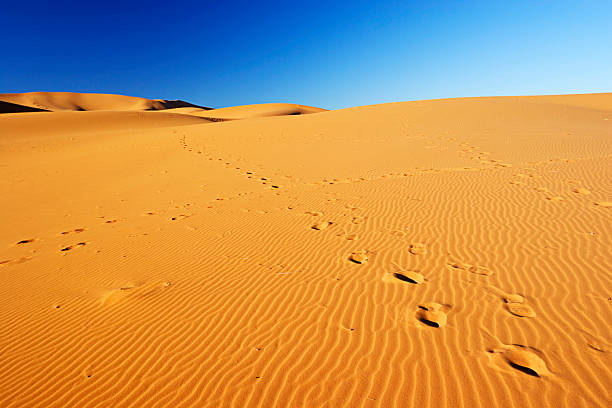human_foot_print: (197, 150, 282, 189), (488, 344, 550, 376), (100, 281, 170, 304), (490, 286, 535, 317), (416, 302, 451, 327), (382, 264, 424, 283), (579, 329, 611, 352), (504, 294, 535, 317), (100, 285, 133, 305), (447, 261, 492, 275), (383, 271, 424, 283), (535, 187, 563, 201), (0, 256, 32, 265), (60, 242, 88, 252), (349, 250, 368, 263), (514, 172, 540, 180), (501, 293, 524, 302), (409, 242, 426, 254), (311, 221, 332, 229), (337, 232, 358, 240), (60, 228, 85, 234), (491, 160, 512, 167), (573, 187, 590, 195), (170, 214, 190, 220), (16, 238, 35, 244), (390, 230, 406, 237), (344, 204, 361, 210), (594, 201, 611, 207), (351, 216, 364, 223), (304, 211, 322, 216), (509, 180, 525, 185), (534, 187, 550, 192), (546, 196, 563, 200), (143, 211, 157, 215), (104, 219, 118, 223), (270, 183, 281, 188)
